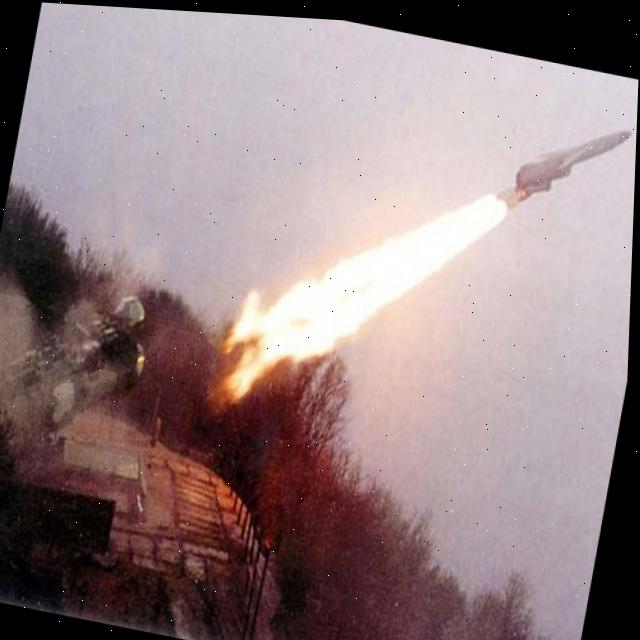missile: (499, 98, 638, 222)
